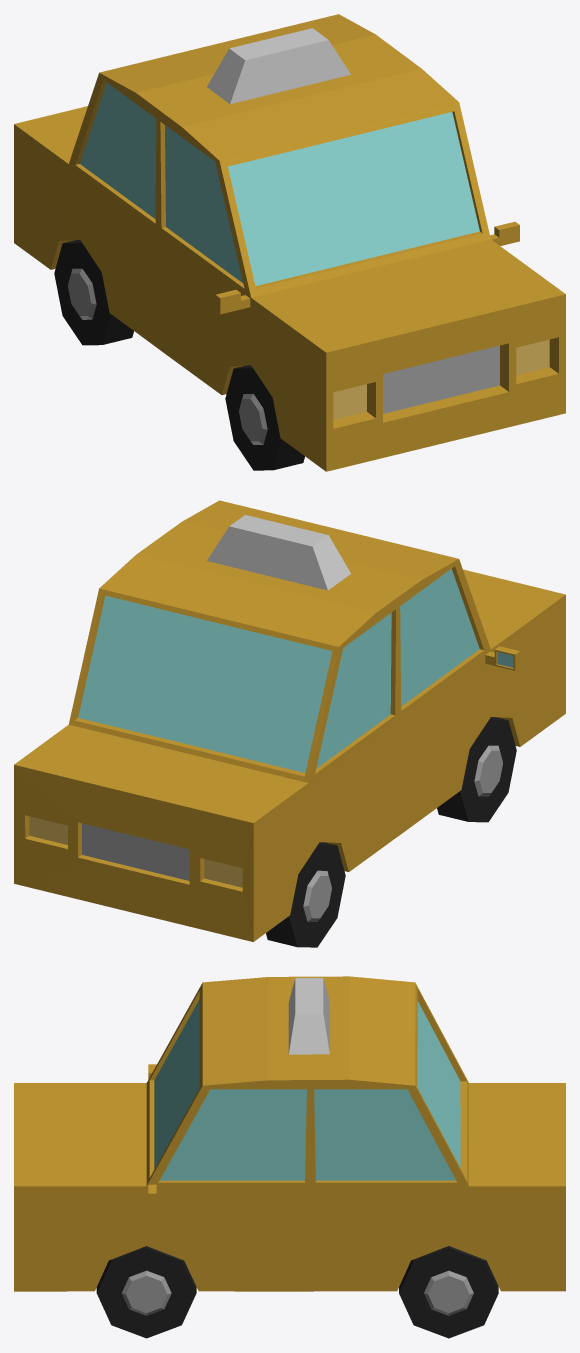
Rendered from Car_Taxi.fbx.
3 views of the same model, one above another, from view 1: azimuth 30°, elevation 25°; view 2: azimuth 150°, elevation 25°; view 3: azimuth 270°, elevation 25° (orthographic). The views are drawn at different scales.
Parts seen in each view (by area): view 1: pCube7; view 2: pCube7; view 3: pCube7.
Boxes of the visible parts, x1,y1,x2,y2 form: pCube7: (14,14,565,471); pCube7: (14,500,565,947); pCube7: (14,976,565,1338).
Size of the model in its own units: 165 by 173 by 297.
